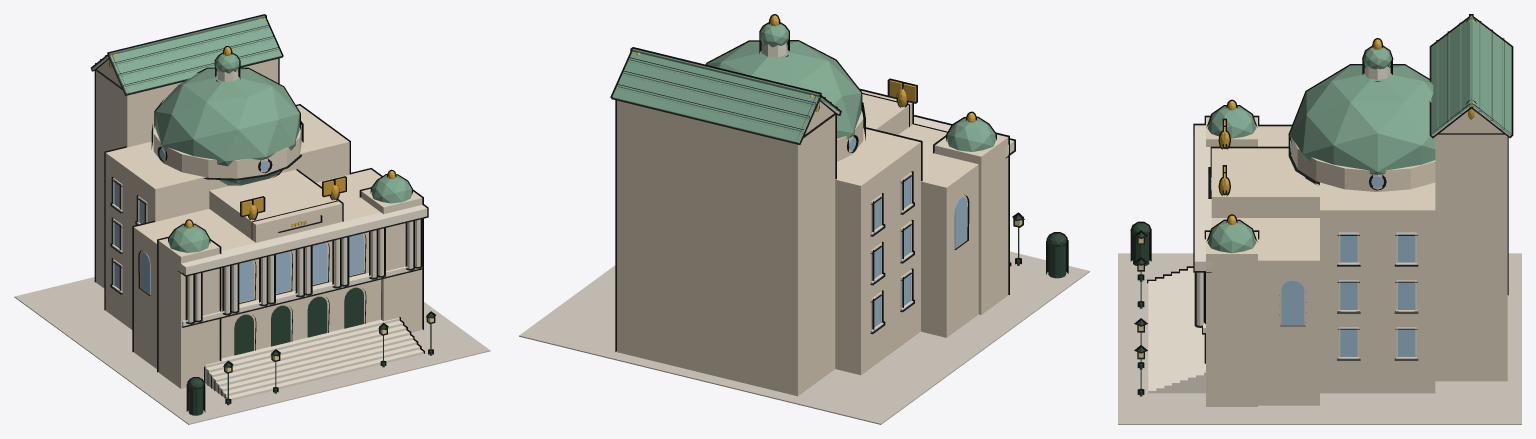
File: Simge_opera.fbx
3 renders of one model, left to right at view 1: azimuth 30°, elevation 25°; view 2: azimuth 150°, elevation 25°; view 3: azimuth 270°, elevation 25°, orthographic. The views are drawn at different scales.
Visible parts, largest first — view 1: Simge_opera; view 2: Simge_opera; view 3: Simge_opera.
Boxes of the visible parts, box(x1,y1,x2,y2) form: Simge_opera: box(14, 14, 490, 424); Simge_opera: box(519, 14, 1089, 424); Simge_opera: box(1118, 14, 1521, 424).
Bounding box in the file's own units: 28 × 23.08 × 28.
